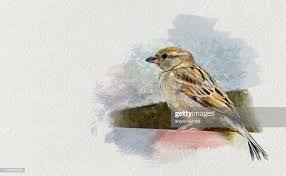hsparrow: (140, 44, 274, 167)
